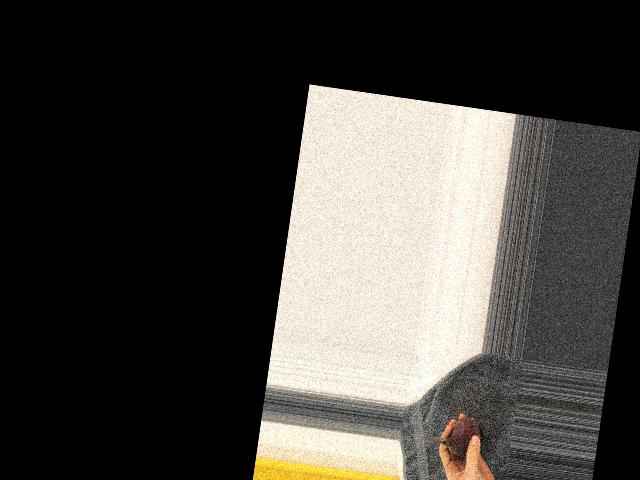beet: (420, 411, 486, 460)
